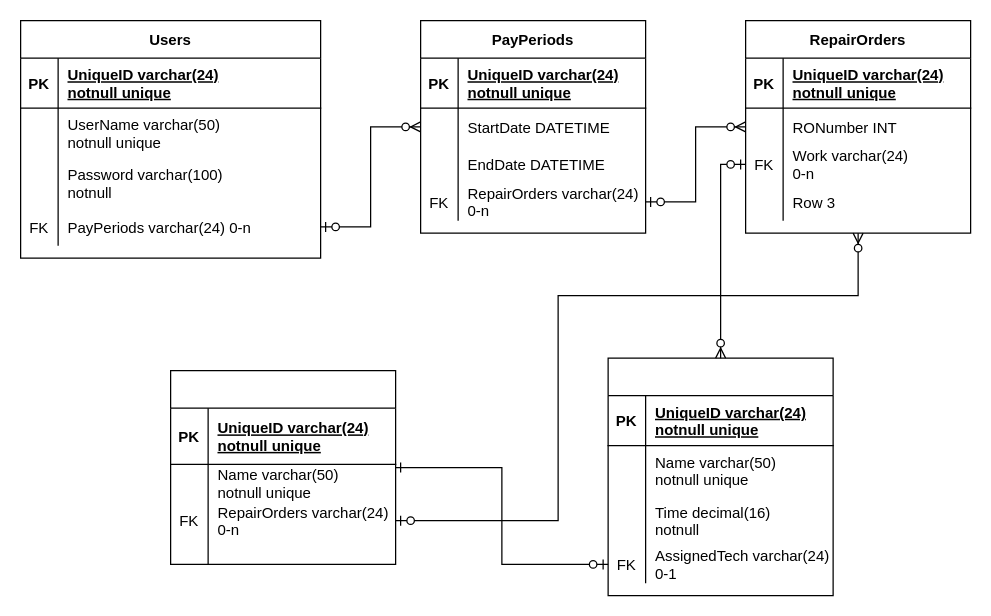
Some shapes in this 991 by 616 pixel diagram are drawn without their labels. Here are the shapes that lost their labels. From the top down, the box of each, then its label:
(169, 369, 396, 564): Techs
(607, 357, 833, 596): Jobs
